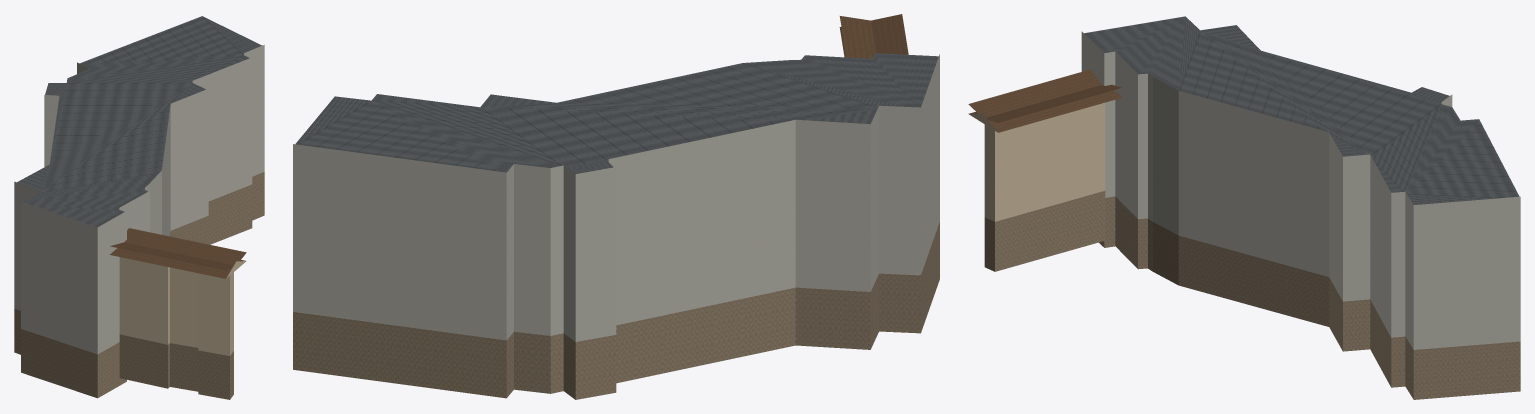
File: bld_c-3_-4_569.gltf
The picture shows the model from 3 angles, left to right: view 1: azimuth 30°, elevation 25°; view 2: azimuth 150°, elevation 25°; view 3: azimuth 270°, elevation 25°; orthographic projection. The views are drawn at different scales.
Visible parts, largest first — view 1: bld_c-3_-4_569; view 2: bld_c-3_-4_569; view 3: bld_c-3_-4_569.
Part boxes in pixels (x1=…): bld_c-3_-4_569: x1=14, y1=16, x2=264, y2=399; bld_c-3_-4_569: x1=293, y1=14, x2=939, y2=399; bld_c-3_-4_569: x1=968, y1=16, x2=1520, y2=399.
Size of the model in its own units: 41.82 by 19.88 by 51.1.
7 materials, 7 textured.
